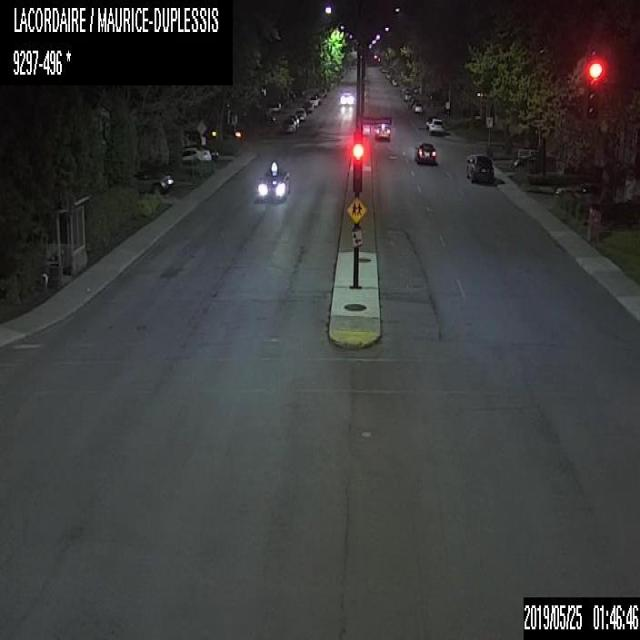vehicle: (255, 160, 291, 201), (552, 182, 612, 206), (464, 152, 496, 183), (133, 170, 173, 193), (508, 152, 555, 171), (180, 145, 210, 165), (412, 140, 437, 164), (424, 115, 444, 133), (374, 120, 392, 139), (282, 117, 297, 132), (204, 147, 218, 160), (339, 91, 353, 104), (294, 106, 306, 119), (268, 101, 282, 112), (288, 114, 299, 126), (412, 102, 423, 112), (309, 94, 318, 106), (402, 91, 413, 100), (314, 91, 322, 103), (304, 102, 313, 112), (318, 86, 326, 96), (392, 78, 398, 85)
